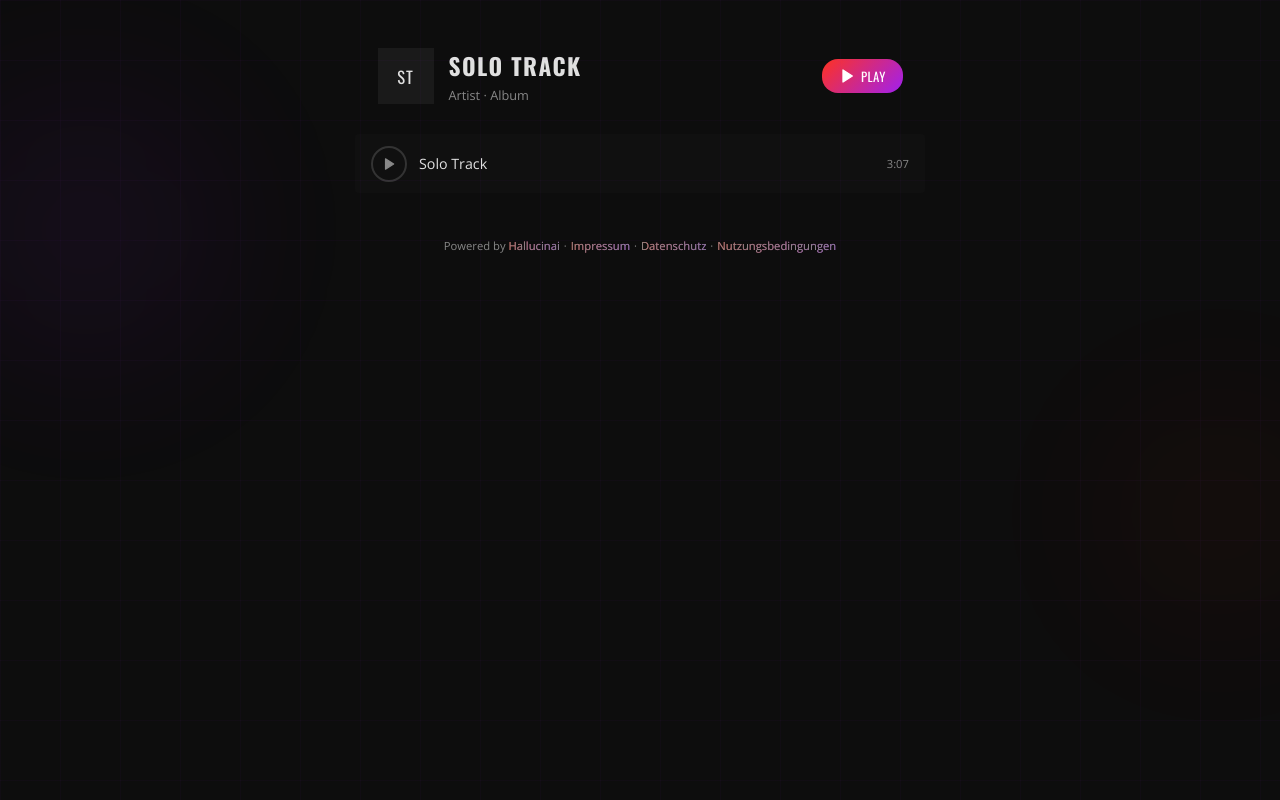
shared generation (take) page › follows the sung words in Now Playing from the cues the payload carries
Click the button with class "track-row" at (389, 164), box [355,134,925,193]
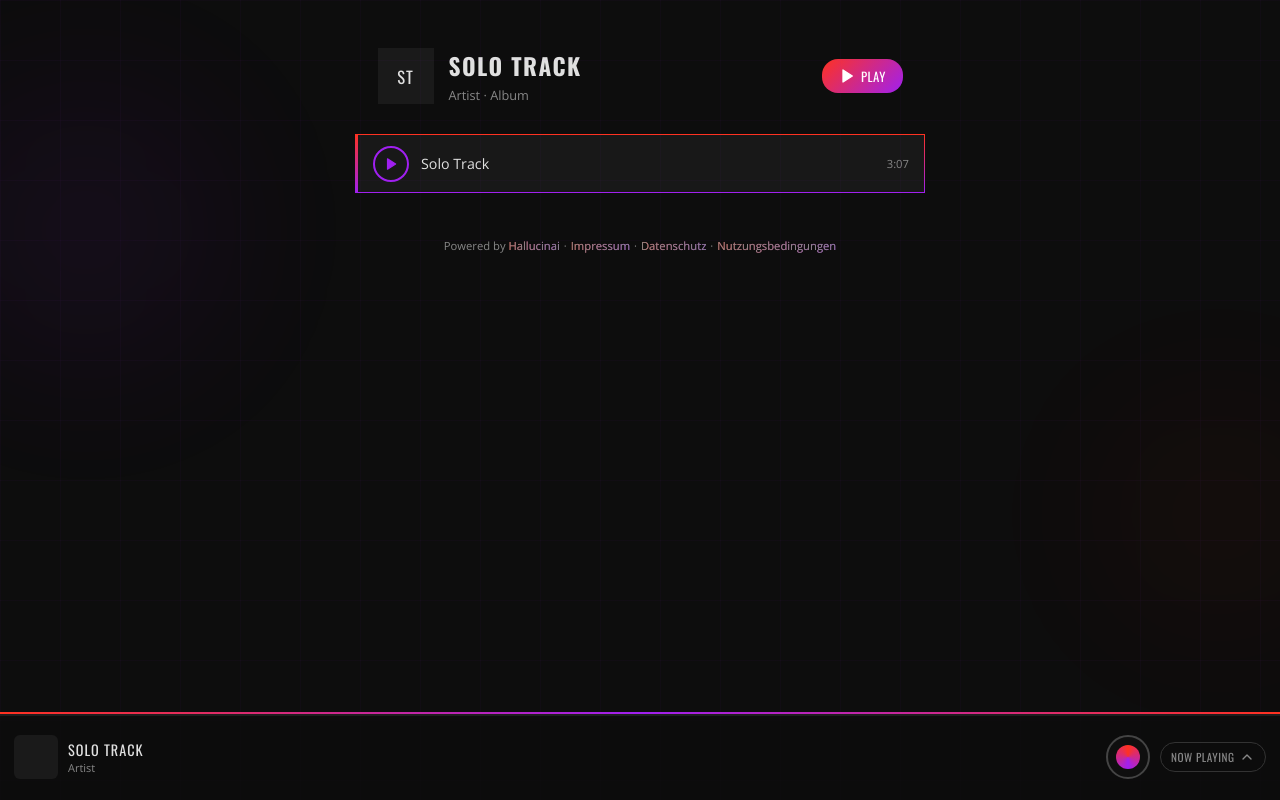
Now the button with class "now-playing-btn" is shown
Click the button with class "now-playing-btn" at (1213, 757), box [1160,742,1266,772]
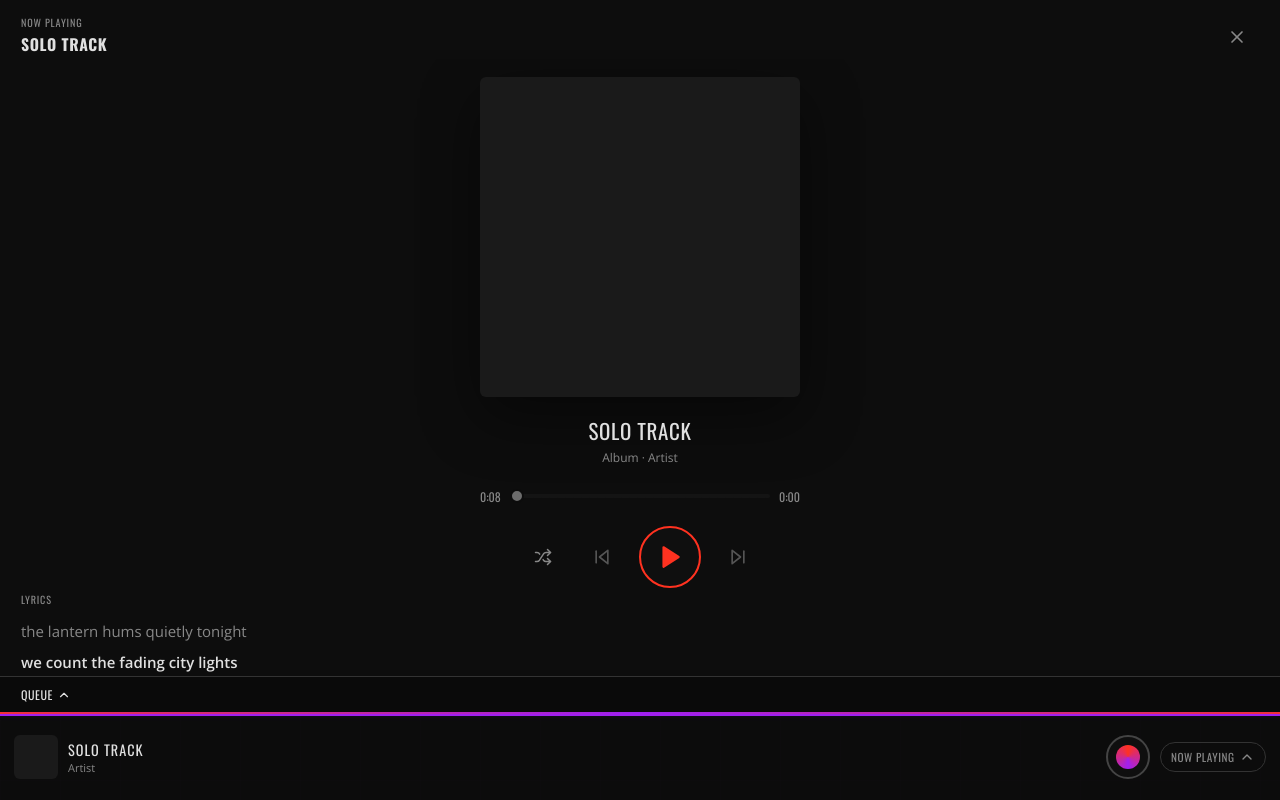
Now the element with class "lyrics-synced" is shown, box [21,620,247,672]
